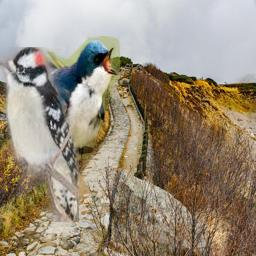Swallow: (36, 36, 120, 159)
Woodpecker: (0, 47, 79, 222)
